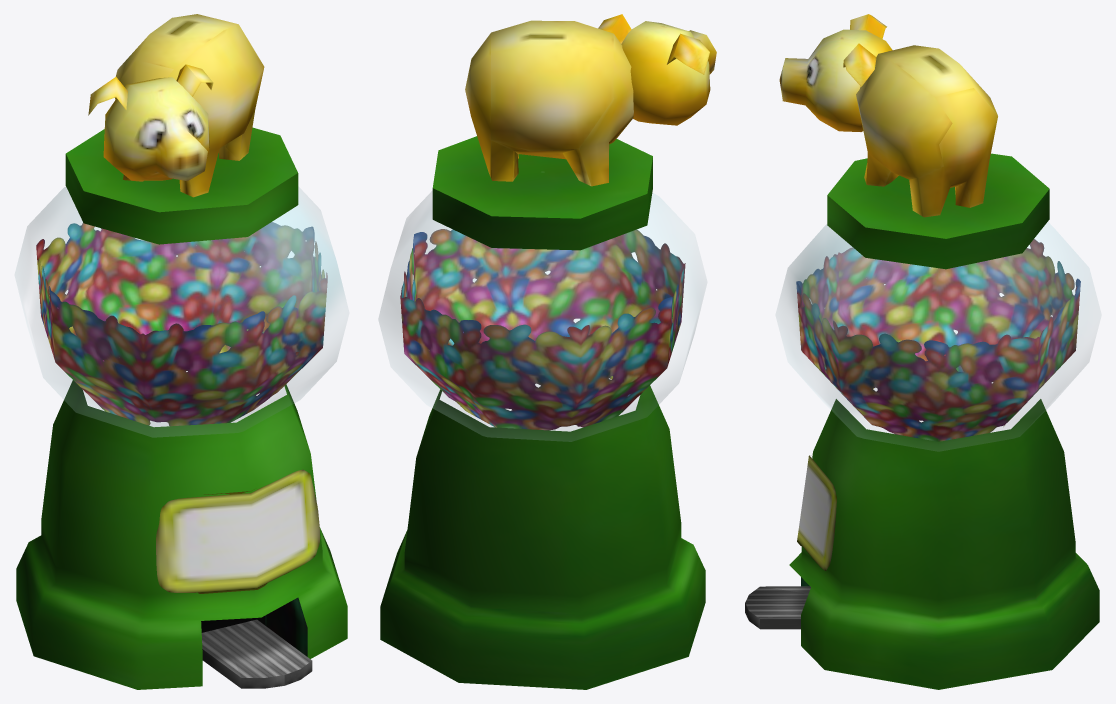
Rendered from teller.glb.
3 views of the same model, side by side, from view 1: azimuth 30°, elevation 25°; view 2: azimuth 150°, elevation 25°; view 3: azimuth 270°, elevation 25° (orthographic). The views are drawn at different scales.
Parts seen in each view (by area): view 1: main_base, bowl, jellybeans, lid, label, pigBody, pigHead, pedal, hole, earR, earL; view 2: main_base, bowl, jellybeans, pigBody, lid, pigHead, earR, earL; view 3: main_base, bowl, jellybeans, pigBody, lid, pigHead, label, pedal, earL.
Boxes of the visible parts, left/top/right/bottom form: main_base: left=16, top=380, right=347, bottom=689; bowl: left=15, top=187, right=348, bottom=437; jellybeans: left=36, top=222, right=327, bottom=426; lid: left=65, top=127, right=298, bottom=244; label: left=156, top=469, right=320, bottom=593; pigBody: left=115, top=14, right=264, bottom=197; pigHead: left=103, top=77, right=209, bottom=181; pedal: left=201, top=619, right=312, bottom=688; hole: left=201, top=597, right=307, bottom=656; earR: left=88, top=77, right=127, bottom=115; earL: left=176, top=64, right=213, bottom=96; main_base: left=380, top=385, right=705, bottom=689; bowl: left=378, top=191, right=706, bottom=441; jellybeans: left=400, top=229, right=685, bottom=430; pigBody: left=465, top=20, right=633, bottom=186; lid: left=432, top=136, right=652, bottom=250; pigHead: left=621, top=21, right=716, bottom=125; earR: left=667, top=33, right=709, bottom=74; earL: left=598, top=14, right=631, bottom=43; main_base: left=789, top=399, right=1099, bottom=689; bowl: left=776, top=222, right=1100, bottom=450; jellybeans: left=796, top=239, right=1080, bottom=441; pigBody: left=856, top=45, right=997, bottom=217; lid: left=827, top=153, right=1049, bottom=269; pigHead: left=779, top=29, right=892, bottom=131; label: left=797, top=455, right=836, bottom=570; pedal: left=745, top=586, right=810, bottom=629; earL: left=843, top=43, right=876, bottom=86.
Bounding box in the file's own units: 4.45 × 8.44 × 4.86.
Materials: 6 (6 with a texture image).
